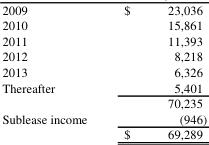table: (1, 0, 206, 141)
table column: (1, 0, 104, 141), (104, 0, 206, 141)
table row: (1, 0, 206, 16), (1, 16, 206, 32), (1, 47, 206, 63), (1, 78, 206, 94), (1, 94, 206, 110), (1, 125, 206, 141), (1, 32, 206, 47), (1, 63, 206, 78), (1, 110, 206, 125)
